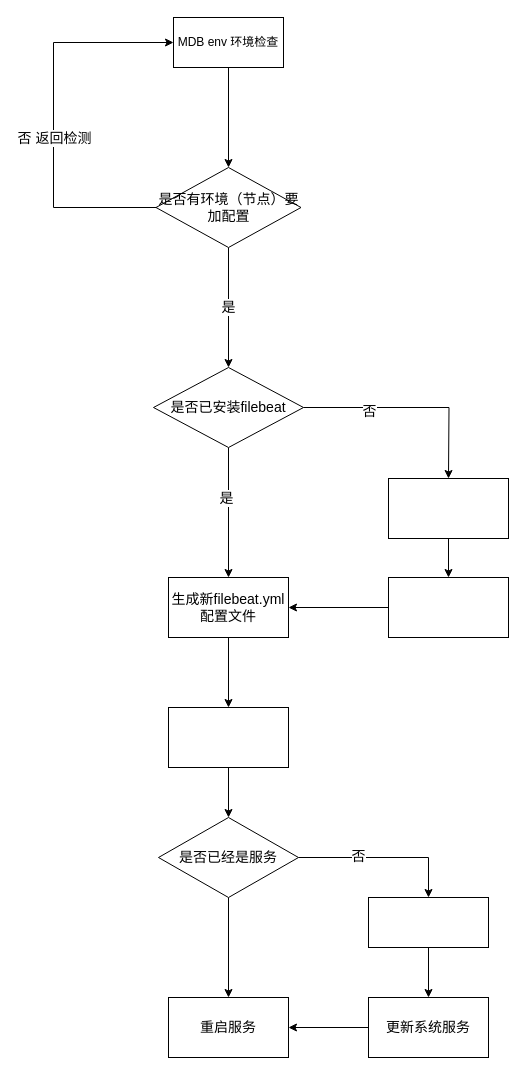
Image size: 526x1075. Some labels were removed from this diagram. The shapes that lost their labels are listed below. From the top down, each one's centre as x and y in pixels, then its label:
At point (448, 508): "上传软件包".
At point (448, 607): "解压".
At point (228, 737): "上传filebeat目录".
At point (428, 922): "添加服务配置".
